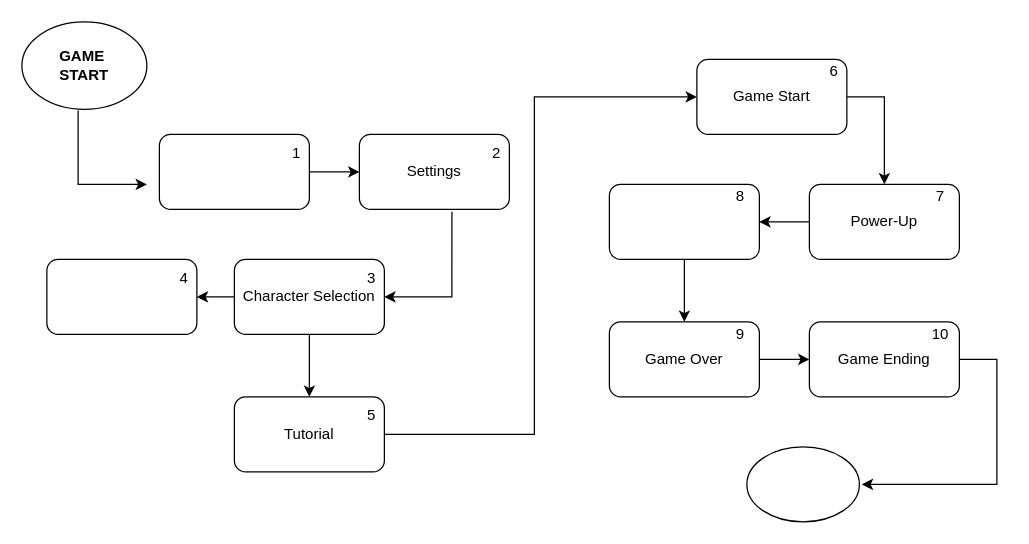
Some shapes in this 1029 by 544 pixel diagram are drawn without their labels. Here are the shapes that lost their labels. From the top down, the box of each, then its label:
(158, 133, 309, 209): Start Screen
(608, 183, 759, 259): Boss Stage
(46, 258, 197, 334): Level Selection
(746, 446, 859, 522): GAME FINISH
